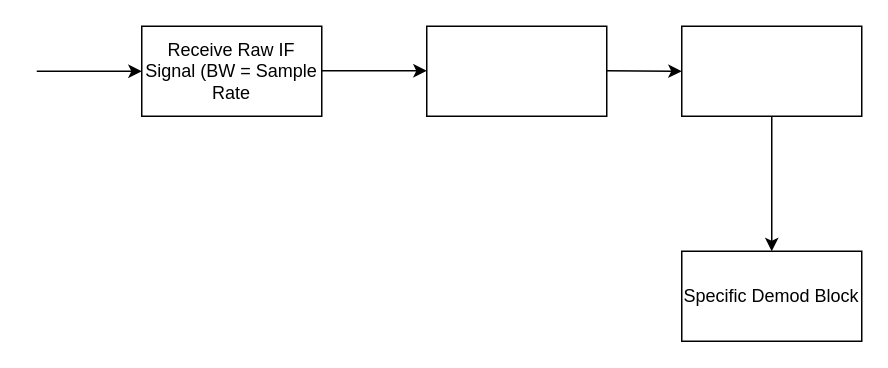
The diagram is 888 pixels wide and 368 high, and some of its shapes have lost their labels. Here are the shapes that lost their labels. From the top down, the centre of each, then its label:
At (x=516, y=70): "Translating filter to Center signal of interest".
At (x=771, y=70): "Rational Resampler to Desired BW of signal".
